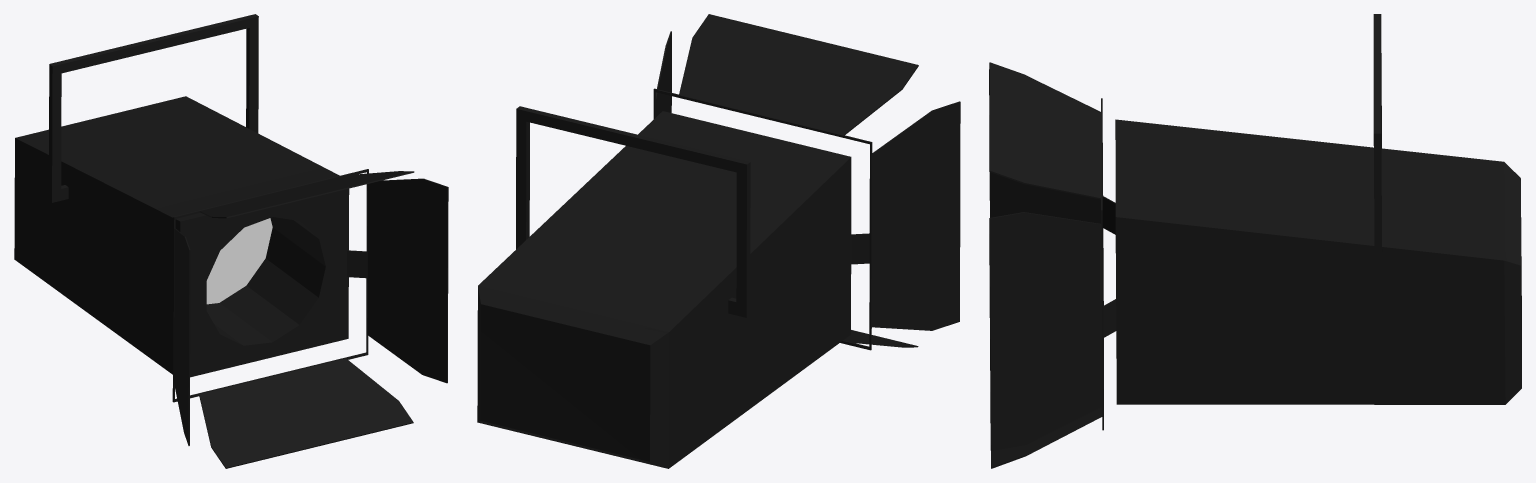
File: spot.obj
The picture shows the model from 3 angles, left to right: view 1: azimuth 30°, elevation 25°; view 2: azimuth 150°, elevation 25°; view 3: azimuth 270°, elevation 25°; orthographic projection. The views are drawn at different scales.
Parts seen in each view (by area): view 1: moving, base; view 2: moving, base; view 3: moving, base.
Boxes of the visible parts, box(x1,y1,x2,y2) form: moving: box(14, 96, 448, 468); base: box(48, 14, 258, 202); moving: box(477, 14, 960, 468); base: box(516, 106, 750, 317); moving: box(989, 62, 1521, 468); base: box(1373, 14, 1382, 295).
Size of the model in its own units: 0.6771 by 0.7166 by 1.02.
Materials: 1 (1 with a texture image).
